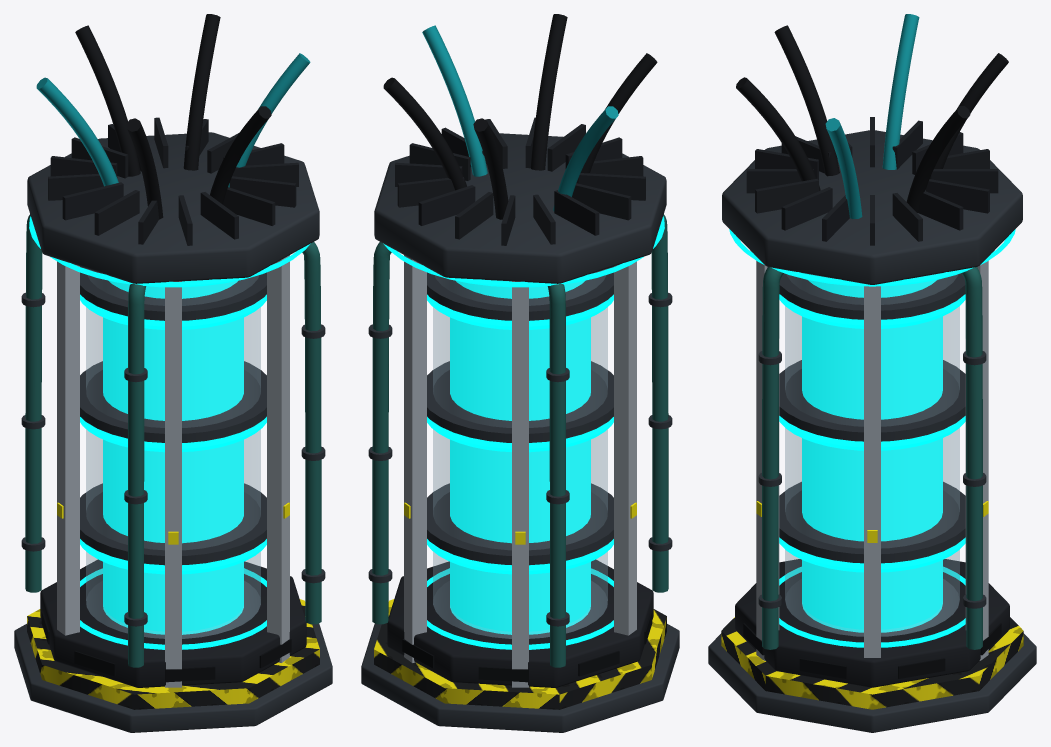
Rendered from core_tower.glb.
3 renders of one model, left to right at view 1: azimuth 30°, elevation 25°; view 2: azimuth 150°, elevation 25°; view 3: azimuth 270°, elevation 25°, orthographic.
Parts seen in each view (by area): view 1: Body, Core; view 2: Body, Core; view 3: Body, Core.
Part boxes in pixels (x1=…): Body: x1=14, y1=14, x2=332, y2=732; Core: x1=103, y1=279, x2=243, y2=634; Body: x1=361, y1=14, x2=679, y2=732; Core: x1=450, y1=279, x2=590, y2=634; Body: x1=708, y1=14, x2=1036, y2=732; Core: x1=802, y1=273, x2=942, y2=632.
Bounding box in the file's own units: 1.96 × 3.93 × 1.96.
12 materials, 1 textured.
